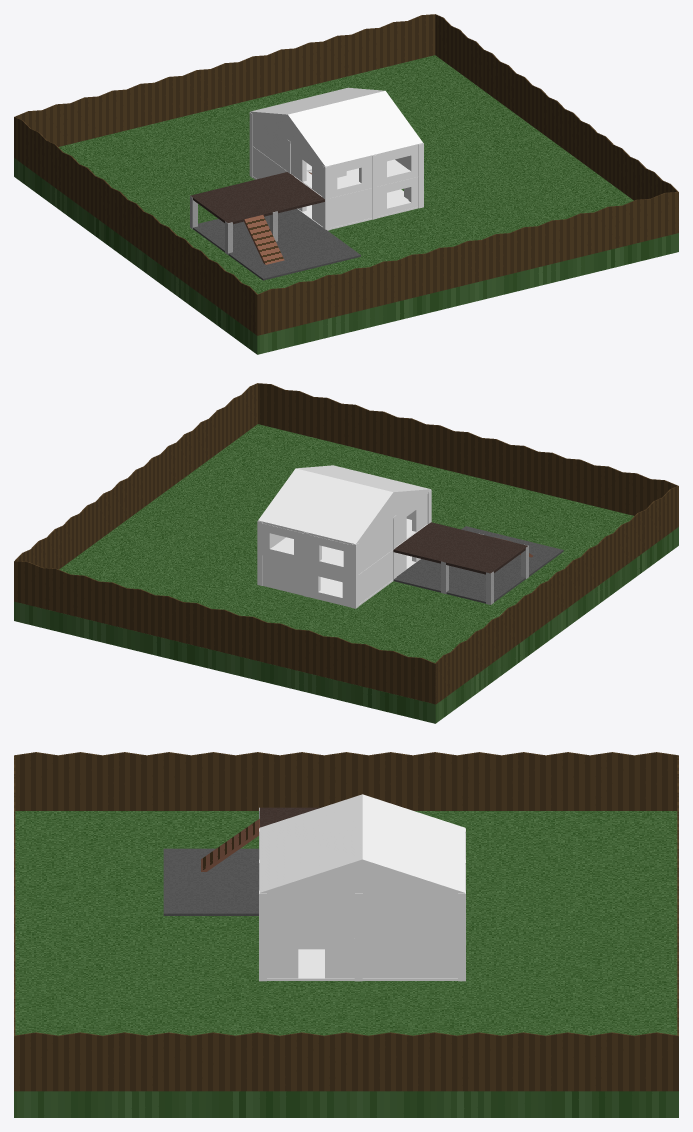
File: skyscraper.gltf
3 views of the same model, one above another, from view 1: azimuth 30°, elevation 25°; view 2: azimuth 150°, elevation 25°; view 3: azimuth 270°, elevation 25° (orthographic). The views are drawn at different scales.
Visible parts, largest first — view 1: Ground (×4), fence (×57), roof (×2), padio floor, padio roof, Window (×3), Wall L (×2), Ground House (×2), Wall, stairs, Door L; view 2: Ground (×4), fence (×57), roof (×2), padio floor, padio roof, Window (×3), Wall L (×2), Wall, Door L, Ground House; view 3: Ground (×4), fence (×30), roof (×2), Wall L (×3), padio floor, Door L, Ground House, stairs, padio roof.
Part boxes in pixels (x1,y1,x2,y2): Ground (×4): (14,55,678,354); fence (×57): (14,14,678,335); roof (×2): (250,87,422,167); padio floor: (193,208,360,280); padio roof: (190,172,324,224); Window (×3): (322,146,418,216); Wall L (×2): (253,116,287,179); Ground House (×2): (291,159,418,229); Wall: (330,190,371,227); stairs: (244,215,284,264); Door L: (291,144,322,196); Ground (×4): (14,424,678,723); fence (×57): (14,383,678,704); roof (×2): (258,465,430,544); padio floor: (393,526,563,603); padio roof: (393,522,527,574); Window (×3): (262,523,358,607); Wall L (×2): (358,519,392,604); Wall: (262,555,303,595); Door L: (396,494,427,546); Ground House: (273,537,393,576); Ground (×4): (14,811,678,1117); fence (×30): (14,752,678,1091); roof (×2): (259,794,465,895); Wall L (×3): (267,896,457,978); padio floor: (163,848,258,915); Door L: (267,941,354,978); Ground House: (267,949,354,980); stairs: (201,818,259,871); padio roof: (260,807,320,827).
Bounding box in the file's own units: 28.13 × 6.91 × 28.13.
Materials: 7 (6 with a texture image).
